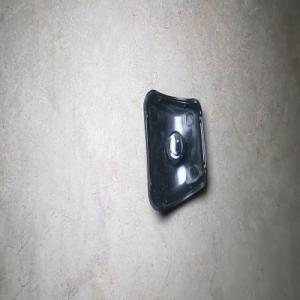LuggagePart: (142, 88, 208, 214)
